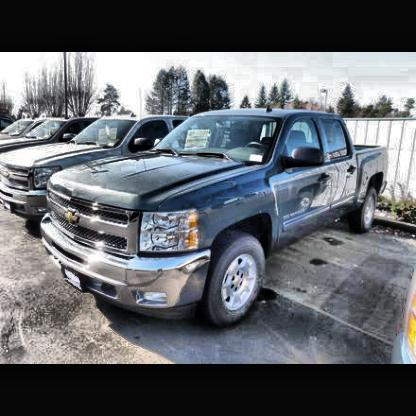Chevrolet Silverado 1500 Hybrid Crew Cab 2012: (40, 109, 388, 331)
